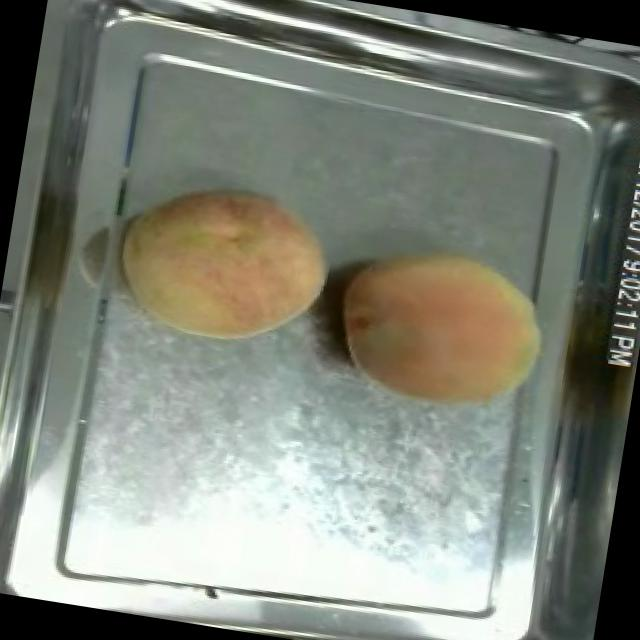Fruit: (320, 227, 562, 429), (104, 170, 343, 364)
